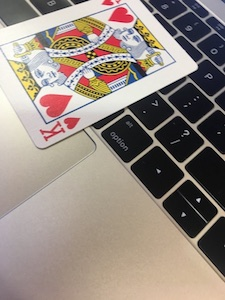KingOfHearts: (1, 1, 200, 149)
